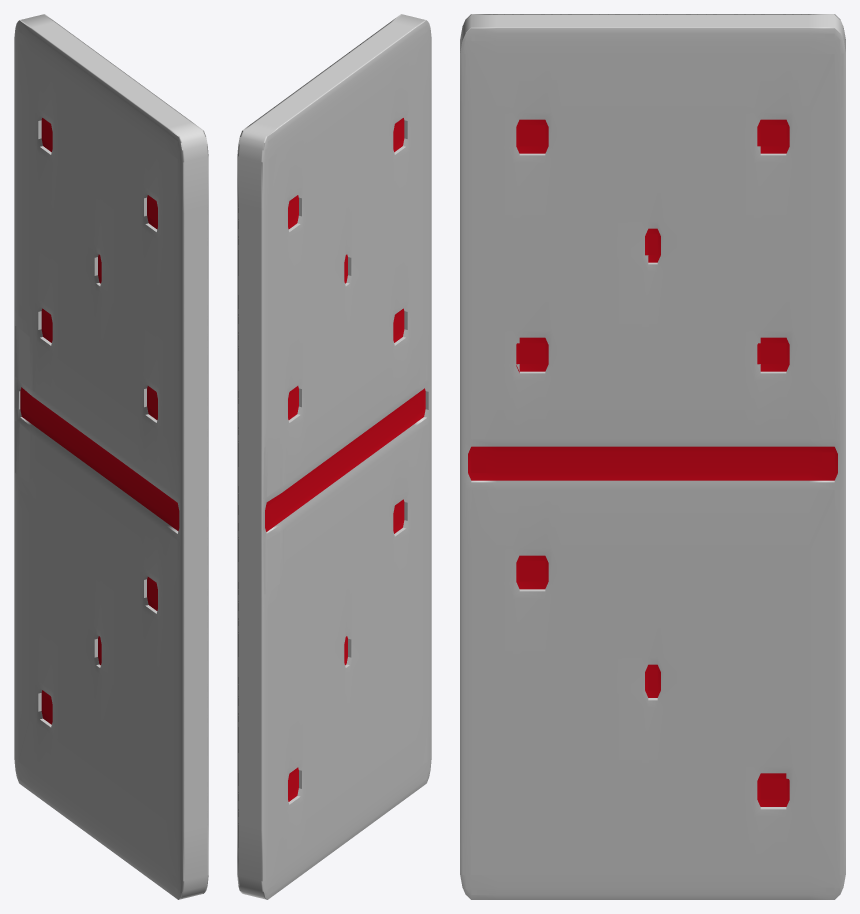
Rendered from Domino.fbx.
The picture shows the model from 3 angles, left to right: view 1: azimuth 30°, elevation 25°; view 2: azimuth 150°, elevation 25°; view 3: azimuth 270°, elevation 25°; orthographic projection. The views are drawn at different scales.
Parts seen in each view (by area): view 1: Cube.001; view 2: Cube.001; view 3: Cube.001.
Boxes of the visible parts, x1,y1,x2,y2 form: Cube.001: (14,14,208,899); Cube.001: (237,14,431,899); Cube.001: (460,14,845,899).
Size of the model in its own units: 18.51 by 499 by 200.
